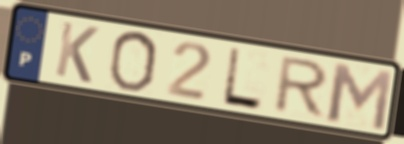2: (165, 41, 213, 103)
K: (52, 18, 101, 86)
L: (219, 45, 265, 113)
M: (325, 60, 395, 134)
O: (106, 30, 161, 93)
R: (269, 54, 333, 120)
